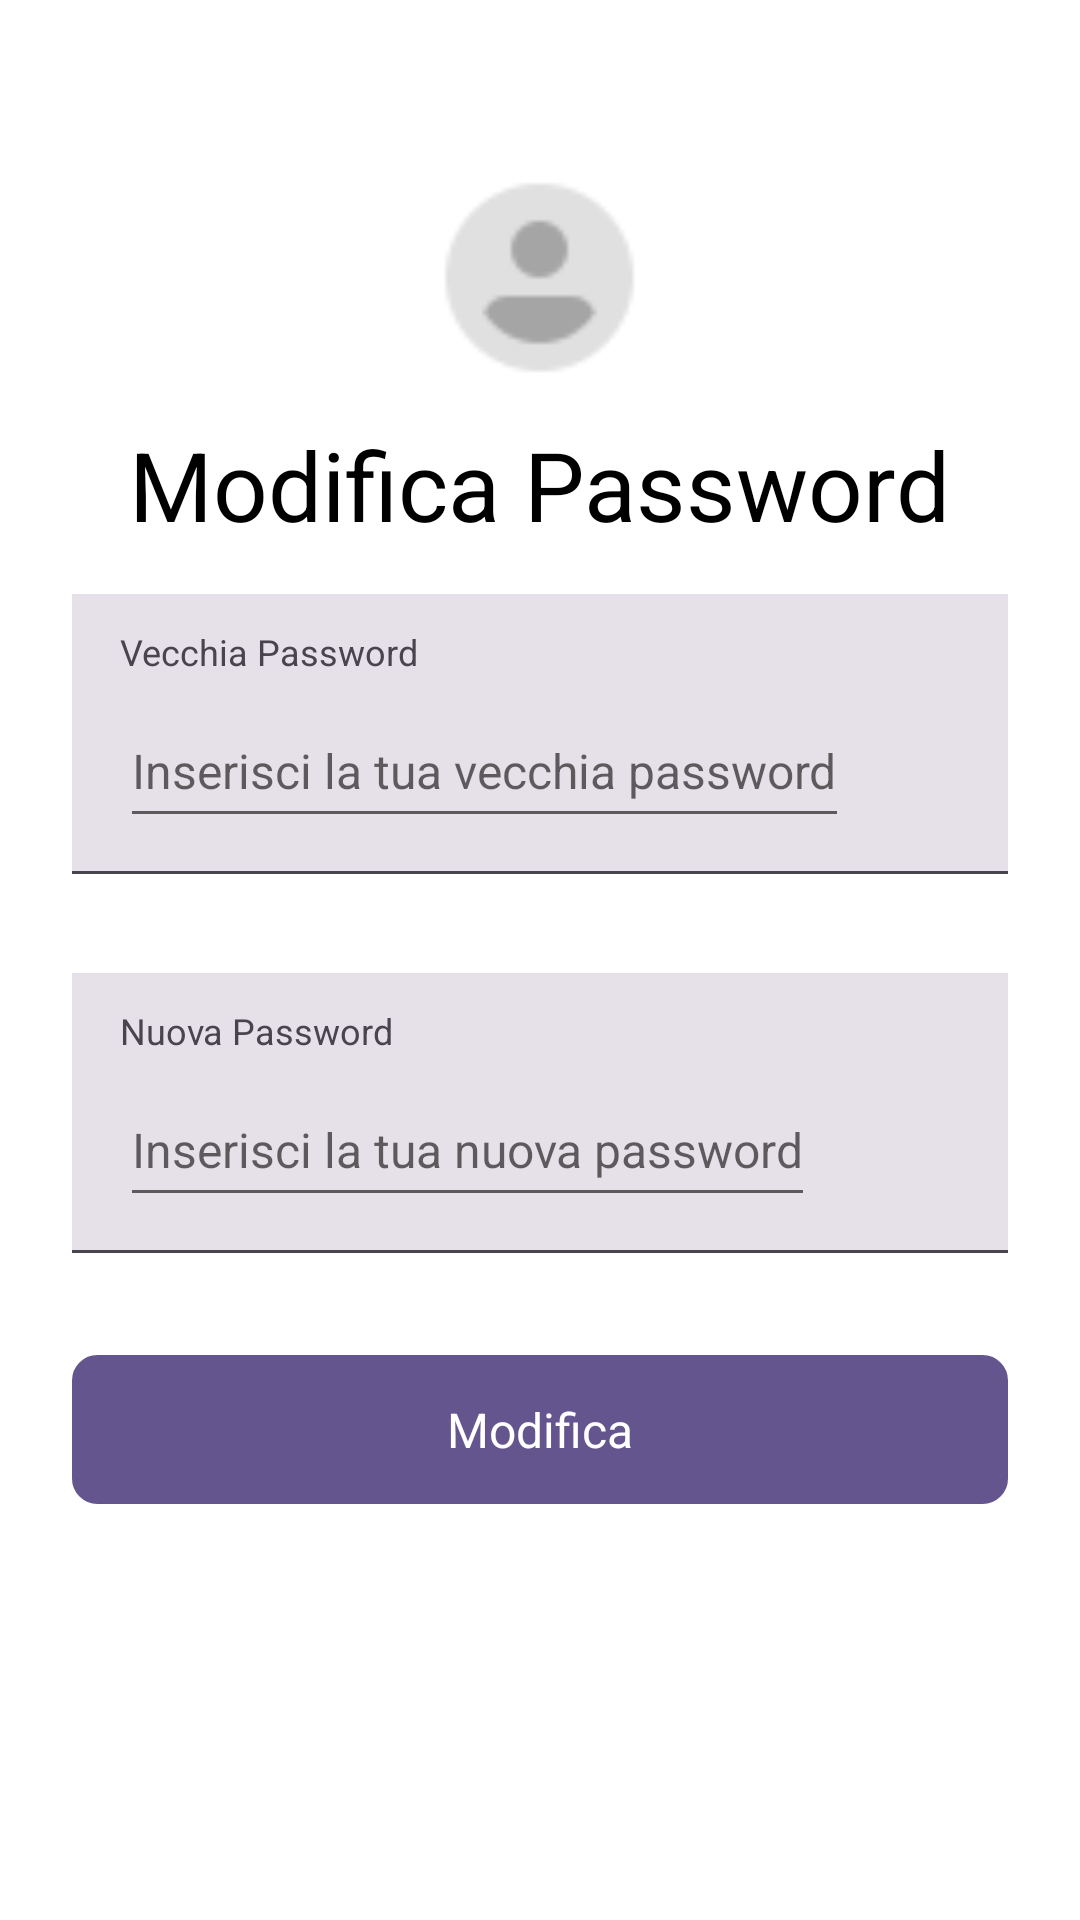

Icons on this 1080 × 1920 Android screen, each with its box as (x1, y1, x2, y2):
account: (447, 185, 632, 370)
